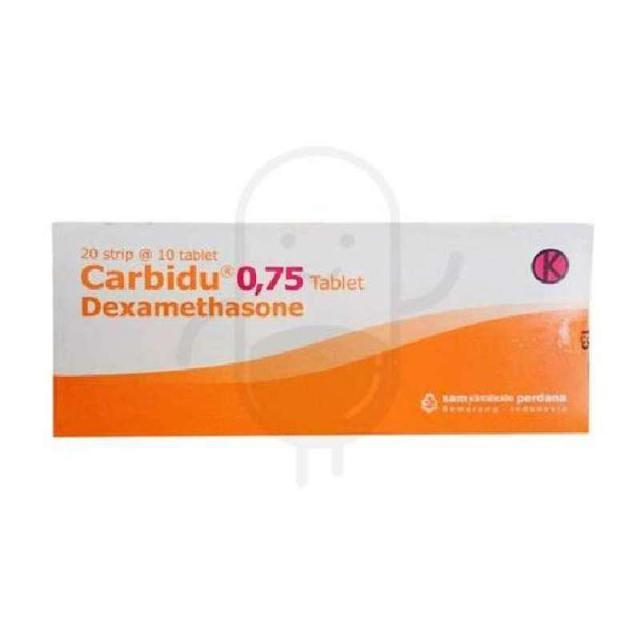drug-name: (79, 262, 304, 296)
